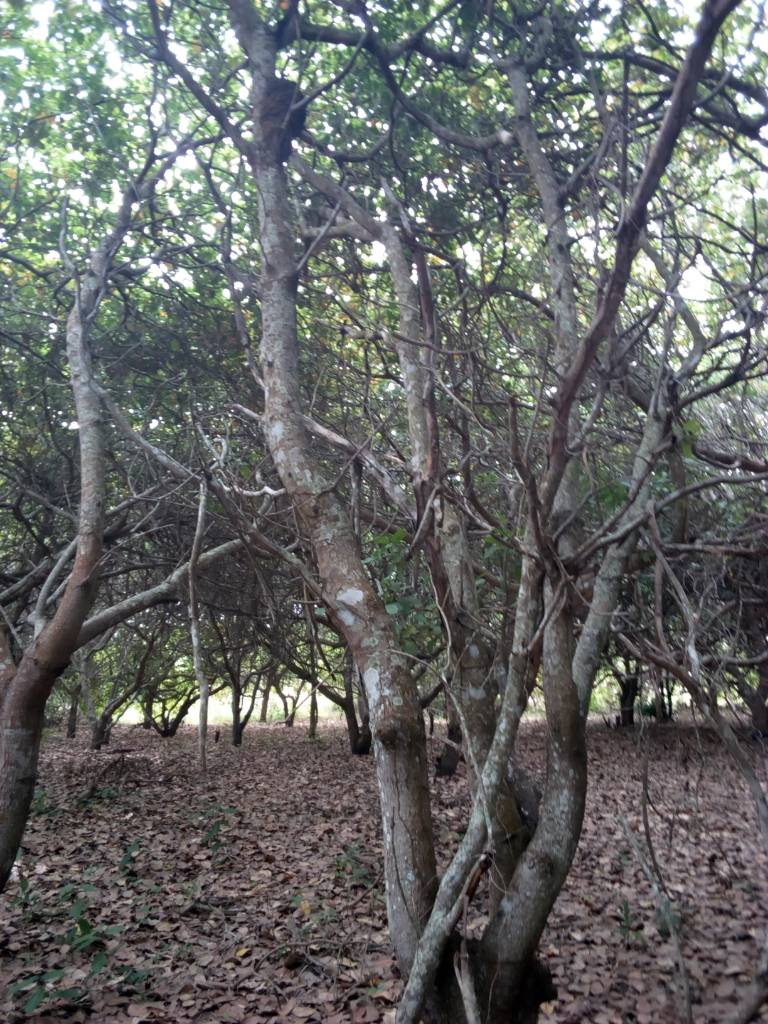Termites: (257, 77, 310, 157)
